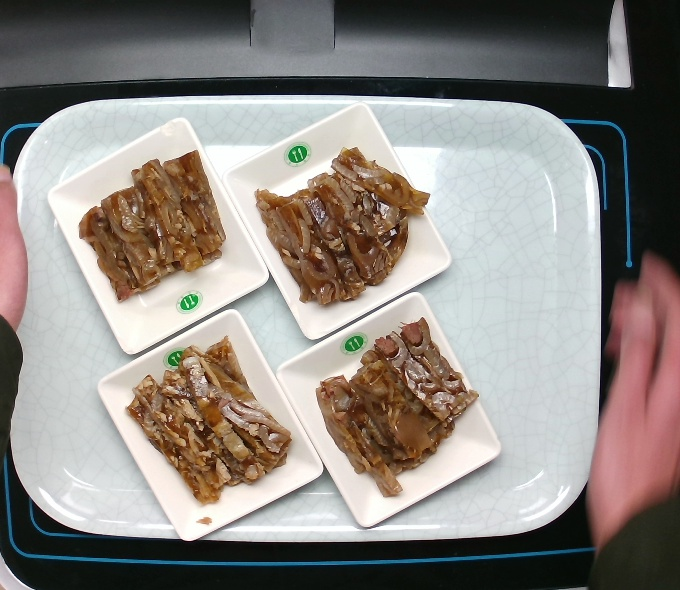wcq-DongZhuPi: (315, 315, 483, 506), (252, 138, 436, 312), (125, 340, 292, 507), (71, 146, 227, 302)
